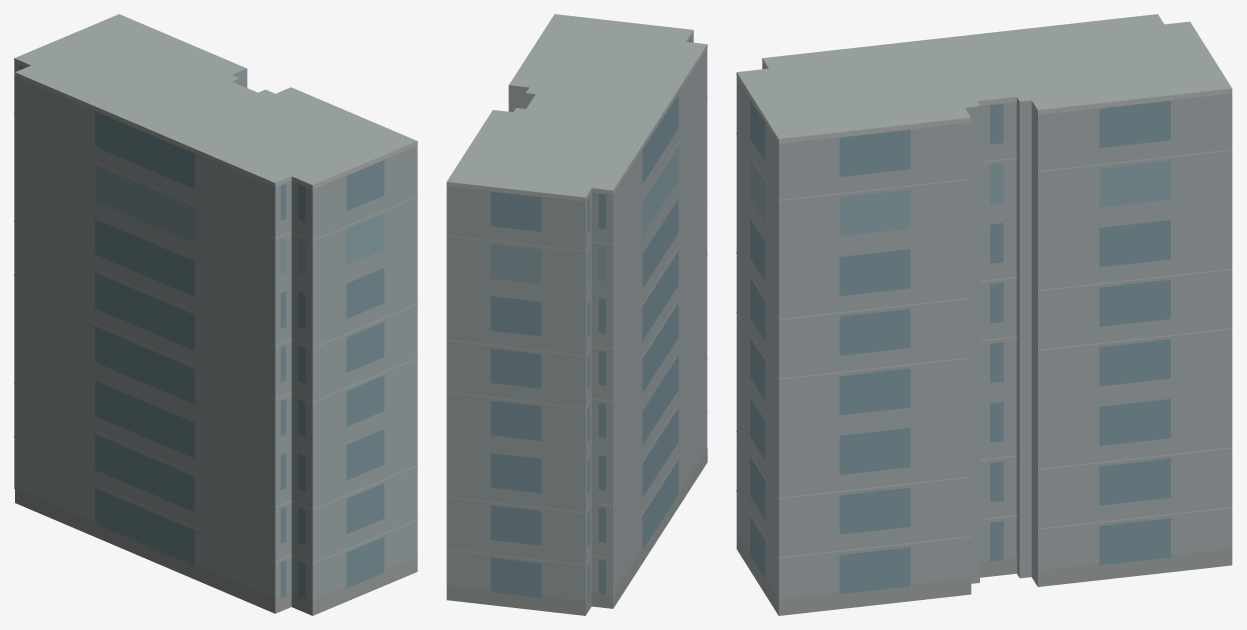
Rendered from survey-upis-32655013.glb.
3 renders of one model, left to right at view 1: azimuth 30°, elevation 25°; view 2: azimuth 150°, elevation 25°; view 3: azimuth 270°, elevation 25°, orthographic. The views are drawn at different scales.
Parts seen in each view (by area): view 1: survey-upis-32655013.tmp; view 2: survey-upis-32655013.tmp; view 3: survey-upis-32655013.tmp.
Boxes of the visible parts, bbox=[...] form: survey-upis-32655013.tmp: bbox=[14, 14, 417, 615]; survey-upis-32655013.tmp: bbox=[446, 14, 707, 615]; survey-upis-32655013.tmp: bbox=[736, 14, 1232, 615].
Bounding box in the file's own units: 13.41 × 23.79 × 22.44.
